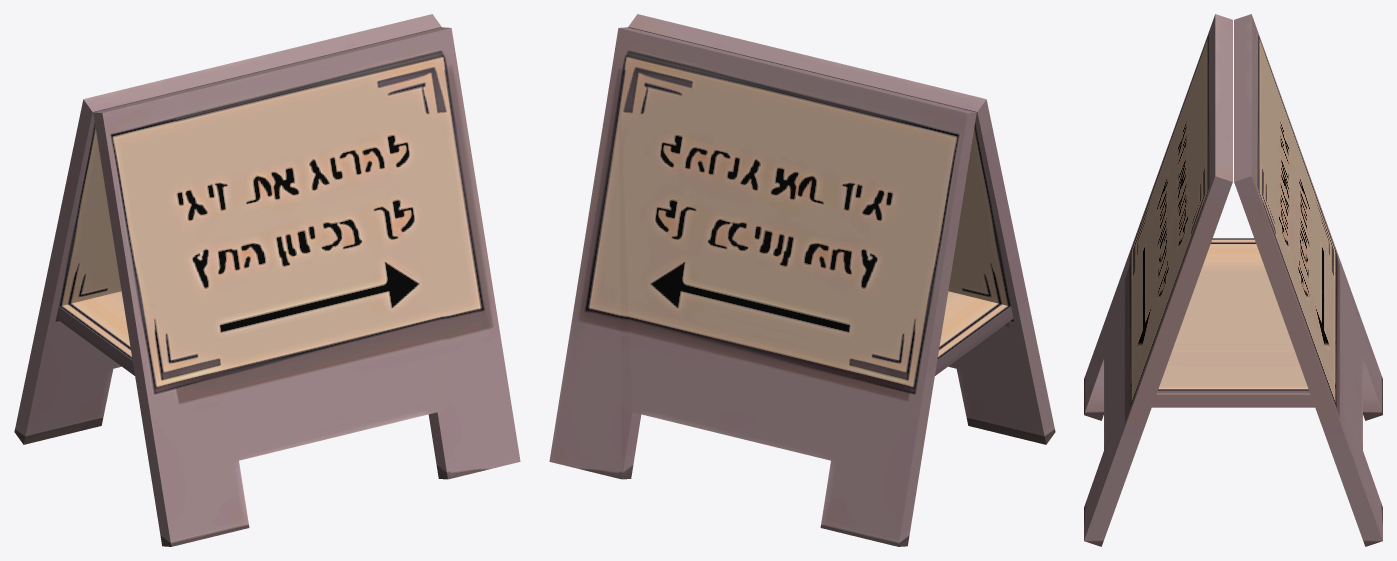
The model's file is ZigSign.glb.
The picture shows the model from 3 angles, left to right: view 1: azimuth 30°, elevation 25°; view 2: azimuth 150°, elevation 25°; view 3: azimuth 270°, elevation 25°; orthographic projection. The views are drawn at different scales.
Visible parts, largest first — view 1: ZigSign; view 2: ZigSign; view 3: ZigSign.
Boxes of the visible parts, x1,y1,x2,y2 form: ZigSign: (14, 14, 520, 546); ZigSign: (549, 14, 1055, 546); ZigSign: (1084, 14, 1382, 546).
Size of the model in its own units: 267 by 284 by 208.
Materials: 1 (1 with a texture image).
